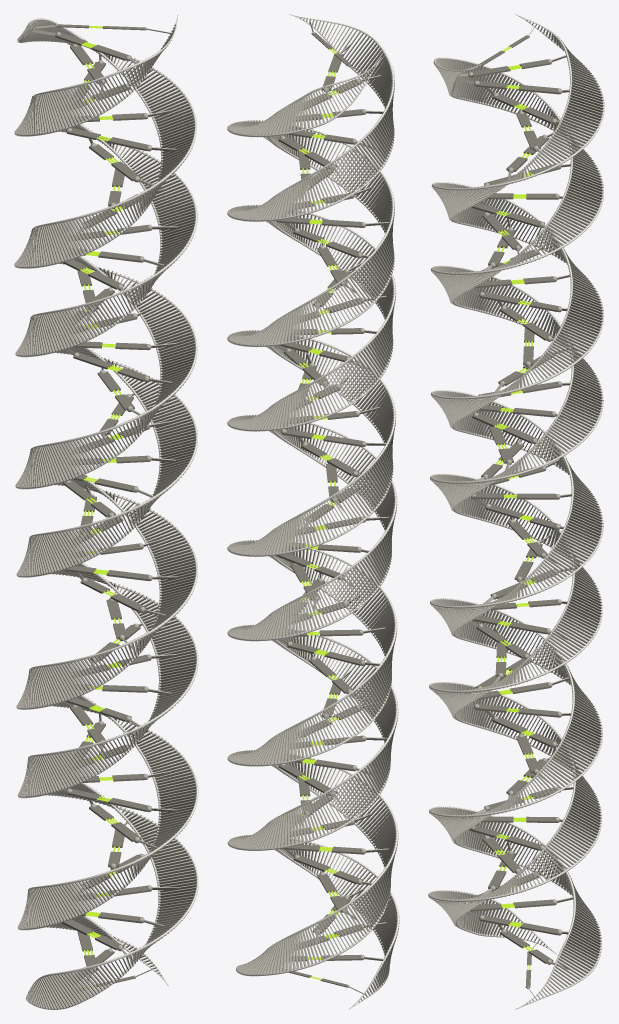
File: helix.glb
3 renders of one model, left to right at view 1: azimuth 30°, elevation 25°; view 2: azimuth 150°, elevation 25°; view 3: azimuth 270°, elevation 25°, orthographic. The views are drawn at different scales.
Visible parts, largest first — view 1: Strand B louvres, Strand A louvres, Base pairs, Rails, Sugar links, Hydrogen bonds; view 2: Strand A louvres, Strand B louvres, Base pairs, Rails, Sugar links, Hydrogen bonds; view 3: Strand A louvres, Strand B louvres, Base pairs, Rails, Sugar links, Hydrogen bonds.
Part boxes in pixels (bbox=[...]): Strand B louvres: bbox=[14, 24, 197, 1009]; Strand A louvres: bbox=[14, 18, 196, 976]; Base pairs: bbox=[55, 24, 151, 991]; Rails: bbox=[14, 14, 198, 1009]; Sugar links: bbox=[31, 24, 178, 994]; Hydrogen bonds: bbox=[80, 26, 124, 988]; Strand A louvres: bbox=[228, 66, 398, 974]; Strand B louvres: bbox=[228, 17, 399, 1002]; Base pairs: bbox=[275, 32, 365, 987]; Rails: bbox=[227, 14, 399, 1009]; Sugar links: bbox=[264, 21, 389, 994]; Hydrogen bonds: bbox=[299, 48, 338, 979]; Strand A louvres: bbox=[429, 19, 604, 1004]; Strand B louvres: bbox=[428, 58, 603, 947]; Base pairs: bbox=[469, 35, 561, 987]; Rails: bbox=[428, 14, 604, 1009]; Sugar links: bbox=[456, 25, 586, 996]; Hydrogen bonds: bbox=[494, 46, 535, 969].
Size of the model in its own units: 2.39 by 14.41 by 2.46.
